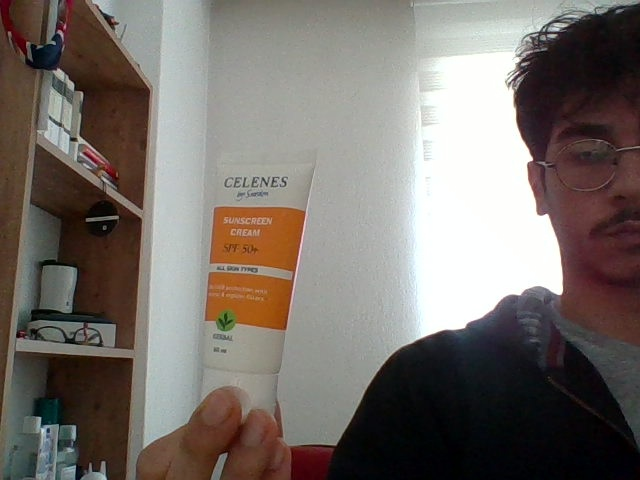CelenesSunCream: (204, 148, 318, 370)
